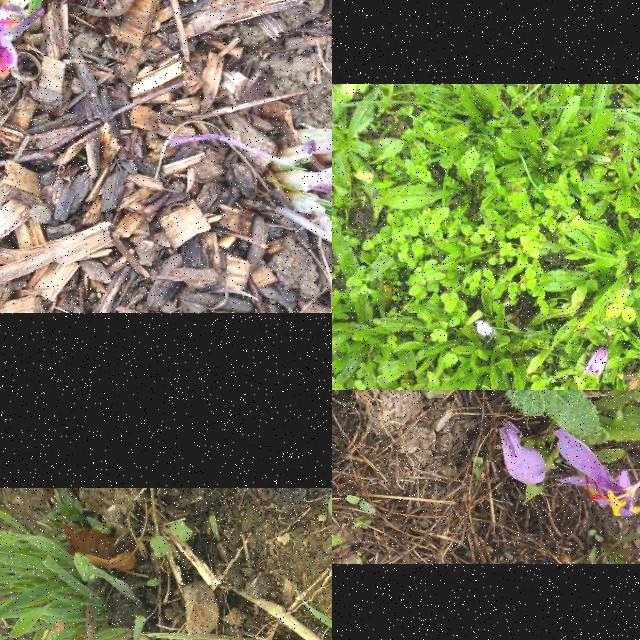flower: (0, 7, 21, 79), (584, 347, 608, 385), (476, 321, 494, 337)
